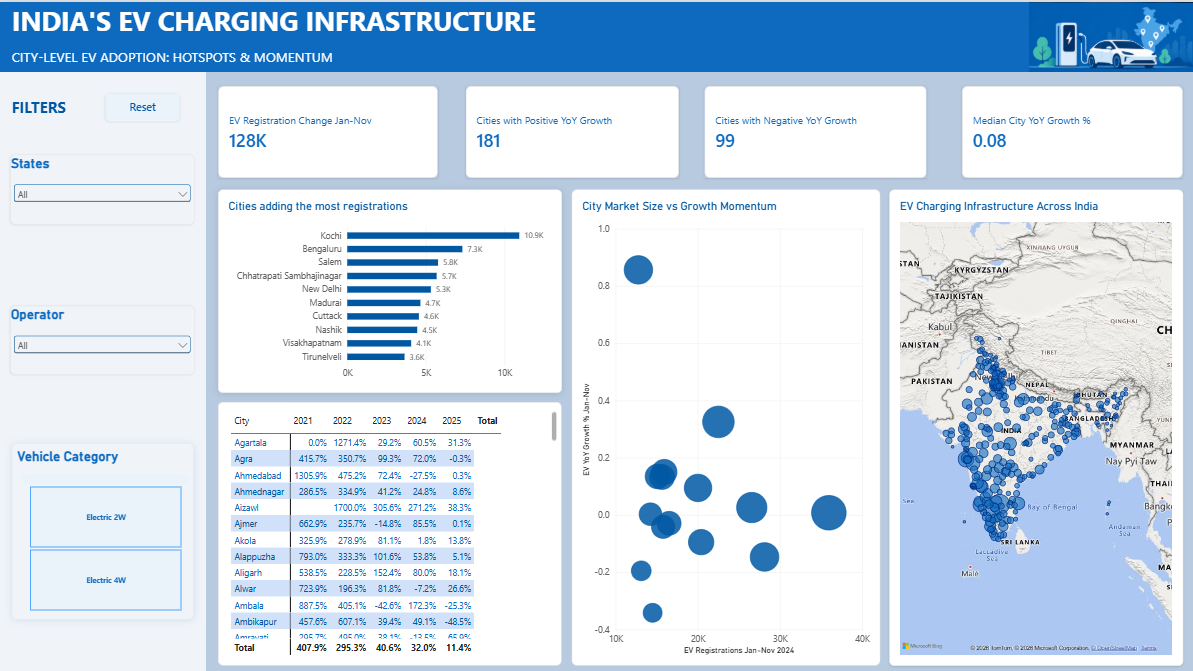

The dashboard page shown, as its layout file describes it:
{"tool":"powerbi","page":{"name":"CITY-LEVEL EV ADOPTION: HOTSPOTS & MOMENTUM","canvas":[1920,1080],"ordinal":2},"visuals":[{"type":"textbox","box":[0,0,1920.1,112.2],"z":0},{"type":"textbox","box":[21.4,0,971.4,71.4],"z":1000},{"type":"textbox","box":[21.4,71.4,707.1,51.4],"z":2000},{"type":"image","box":[1648.6,0,271.4,112.2],"z":3000},{"type":"clusteredBarChart","title":"Cities adding the most registrations","fields":{"Category":["Dim_Cities.City"],"Y":["EV_Registrations_Monthly_City.EV Registration Change Jan-Nov"]},"box":[351.1,300.4,550.1,325.7],"z":4000},{"type":"cardVisual","fields":{"Data":["EV_Registrations_Monthly_City.Median City YoY Growth %"]},"box":[1541.8,133.9,354.7,148.4],"z":5000},{"type":"cardVisual","fields":{"Data":["EV_Registrations_Monthly_City.Cities with Negative YoY Growth"]},"box":[1129.2,133.9,356.5,148.4],"z":6000},{"type":"cardVisual","fields":{"Data":["EV_Registrations_Monthly_City.Cities with Positive YoY Growth"]},"box":[747.4,133.9,342,148.4],"z":7000},{"type":"cardVisual","fields":{"Data":["EV_Registrations_Monthly_City.EV Registration Change Jan-Nov"]},"box":[351.1,133.9,352.9,148.4],"z":8000},{"type":"shape","box":[0,112.2,333,968.2],"z":9000},{"type":"textbox","box":[21.7,152,150.2,39.8],"z":10000},{"type":"actionButton","box":[171.9,146.6,119.4,45.2],"z":11000},{"type":"slicer","title":"States","fields":{"Values":["Dim_Cities.State"]},"box":[20,244,294,112],"z":12000},{"type":"slicer","title":"Vehicle Category","fields":{"Values":["EV_Registrations_Monthly_City.Vehicle_Category"]},"box":[21.7,705.8,291.4,282.3],"z":13000},{"type":"slicer","title":"Operator","fields":{"Values":["EV_Charging_Sites.Operator"]},"box":[20,486,294,110],"z":14000},{"type":"map","title":"EV Charging Infrastructure Across India","fields":{"Size":["Sum(EV_Charging_Sites.Charge_Points)"],"X":["Dim_Cities.Longitude_Centroid"],"Y":["Dim_Cities.Latitude_Centroid"]},"box":[1426,300,470,762],"z":15000},{"type":"pivotTable","title":"City-Level YoY Growth %","fields":{"Columns":["Dim_Date.Year"],"Rows":["Dim_Cities.City"],"Values":["EV_Registrations_Monthly_City.YoY Growth % (Comparable Months)"]},"box":[352,640.1,549.6,422],"z":16000},{"type":"scatterChart","title":"City Market Size vs Growth Momentum","fields":{"Category":["Dim_Cities.City"],"Size":["EV_Registrations_Monthly_City.EV Registrations Jan-Nov 2025"],"X":["EV_Registrations_Monthly_City.EV Registrations Jan-Nov 2024"],"Y":["EV_Registrations_Monthly_City.EV YoY Growth % Jan-Nov"]},"box":[918,300.5,494,761.6],"z":17000}]}

Visuals, with their boxes in screenshot pixels (x1, y1, x2, y2), scaled from the page's 1920x1080 canvas onto the 1193x671 screenshot:
textbox: 0 0 1192 70
textbox: 13 0 617 44
textbox: 13 44 453 76
image: 1024 0 1192 70
"Cities adding the most registrations" clusteredBarChart: 218 187 560 389
cardVisual - EV_Registrations_Monthly_City.Median City YoY Growth %: 958 83 1178 175
cardVisual - EV_Registrations_Monthly_City.Cities with Negative YoY Growth: 702 83 923 175
cardVisual - EV_Registrations_Monthly_City.Cities with Positive YoY Growth: 464 83 677 175
cardVisual - EV_Registrations_Monthly_City.EV Registration Change Jan-Nov: 218 83 437 175
shape: 0 70 207 670
textbox: 13 94 107 119
actionButton: 107 91 181 119
"States" slicer: 12 152 195 221
"Vehicle Category" slicer: 13 439 195 614
"Operator" slicer: 12 302 195 370
"EV Charging Infrastructure Across India" map: 886 186 1178 660
"City-Level YoY Growth %" pivotTable: 219 398 560 660
"City Market Size vs Growth Momentum" scatterChart: 570 187 877 660
